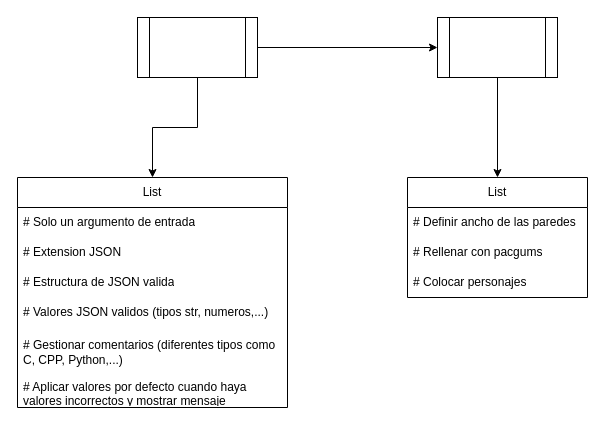
This 605x425 diagram has some shape labels left out. The shapes that lost their labels are listed below. From the top down, each one's box as (x1, y1, x2, y2) in pixels, then its label:
(136, 16, 258, 78): PARSEO
(436, 16, 558, 78): GENERAR ESCENARIO JUEGO
